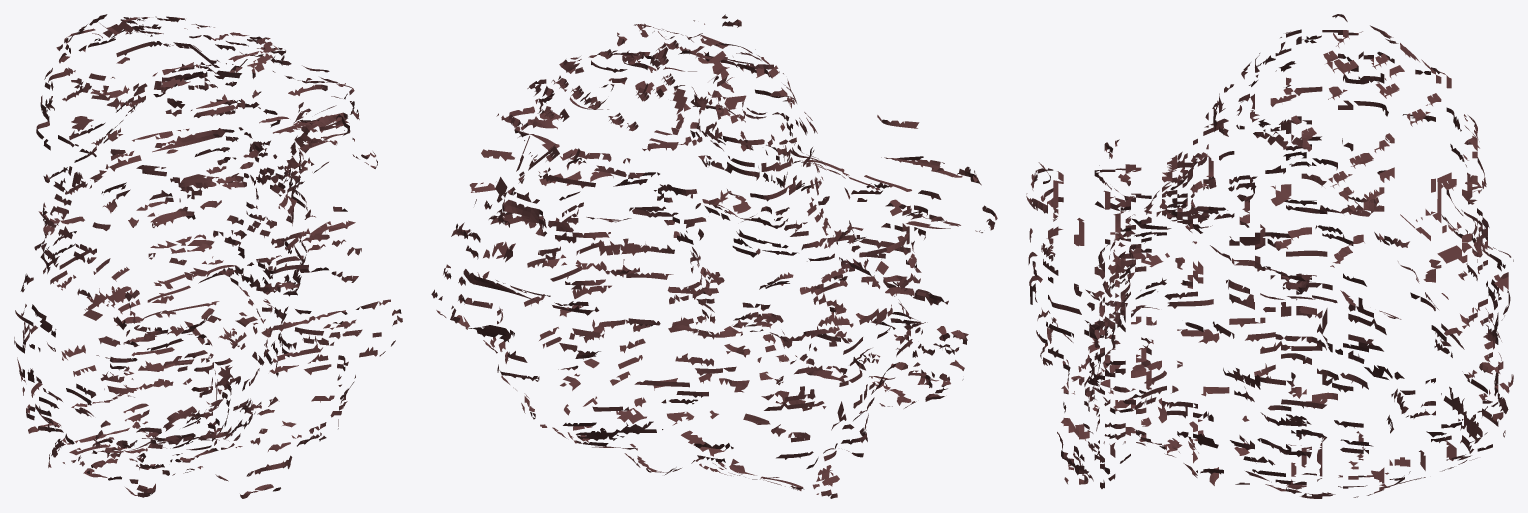
File: g292-0-1-8-supernova-remnant.glb
The picture shows the model from 3 angles, left to right: view 1: azimuth 30°, elevation 25°; view 2: azimuth 150°, elevation 25°; view 3: azimuth 270°, elevation 25°; orthographic projection. The views are drawn at different scales.
Parts seen in each view (by area): view 1: G292_02052025; view 2: G292_02052025; view 3: G292_02052025.
Part boxes in pixels (box(x1,y1,x2,y2)): G292_02052025: box(14, 14, 402, 498); G292_02052025: box(431, 14, 997, 498); G292_02052025: box(1026, 14, 1513, 498).
Size of the model in its own units: 14.03 by 15.54 by 14.74.
